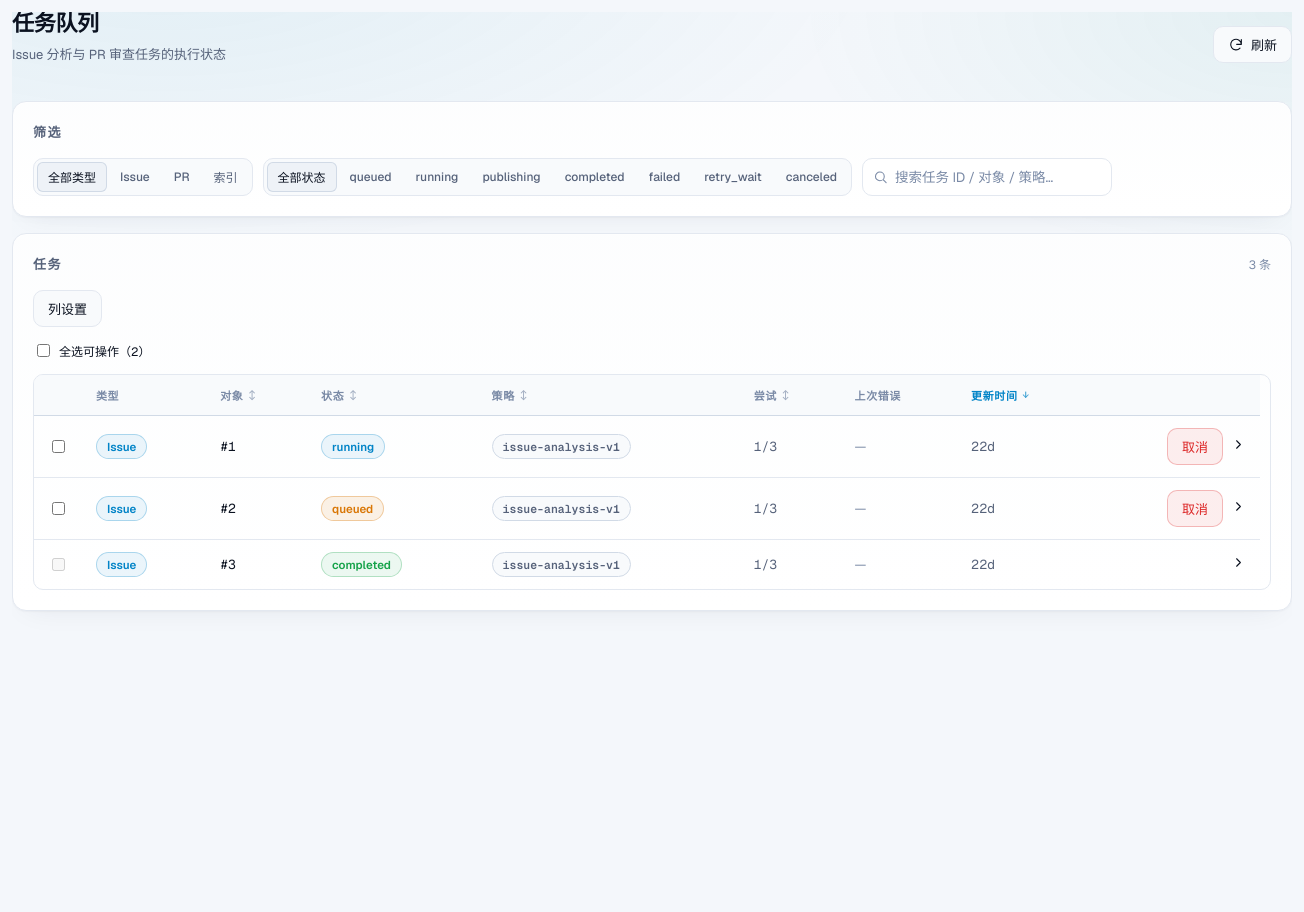
Test: 任务队列页取消按钮 › 勾选运行中任务后可批量「取消（N）」
Expected: the text "#1" is shown, [206, 416, 307, 478]
What coordinates should you click on to do the following:
click the checkbox named "选择任务 task-run"
I would click on:
 (58, 446)
Its box is [52, 440, 65, 453].
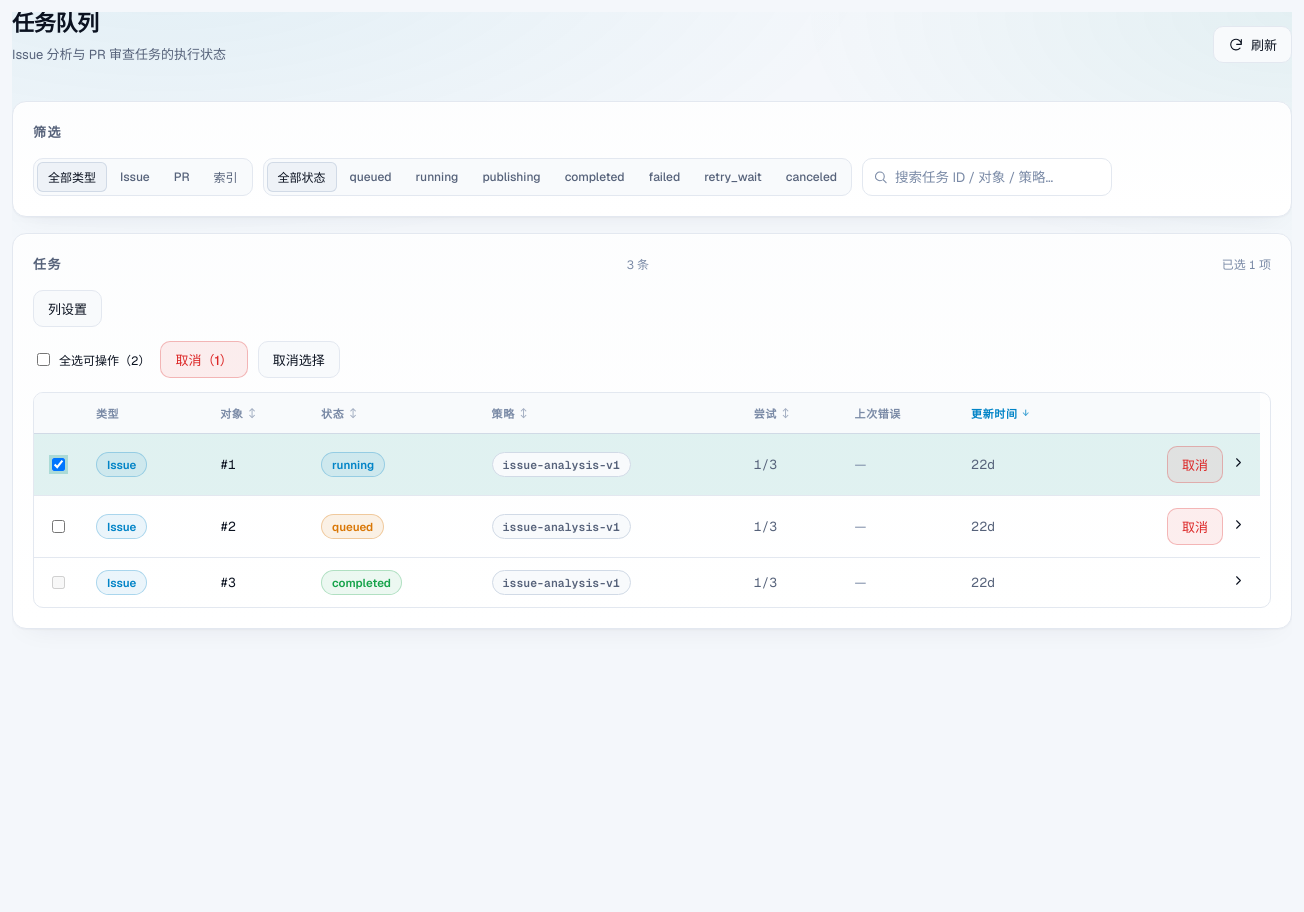
What coordinates should you click on to do the following:
click the button "取消（1）"
I would click on:
 (204, 360)
Its box is [160, 341, 248, 378].
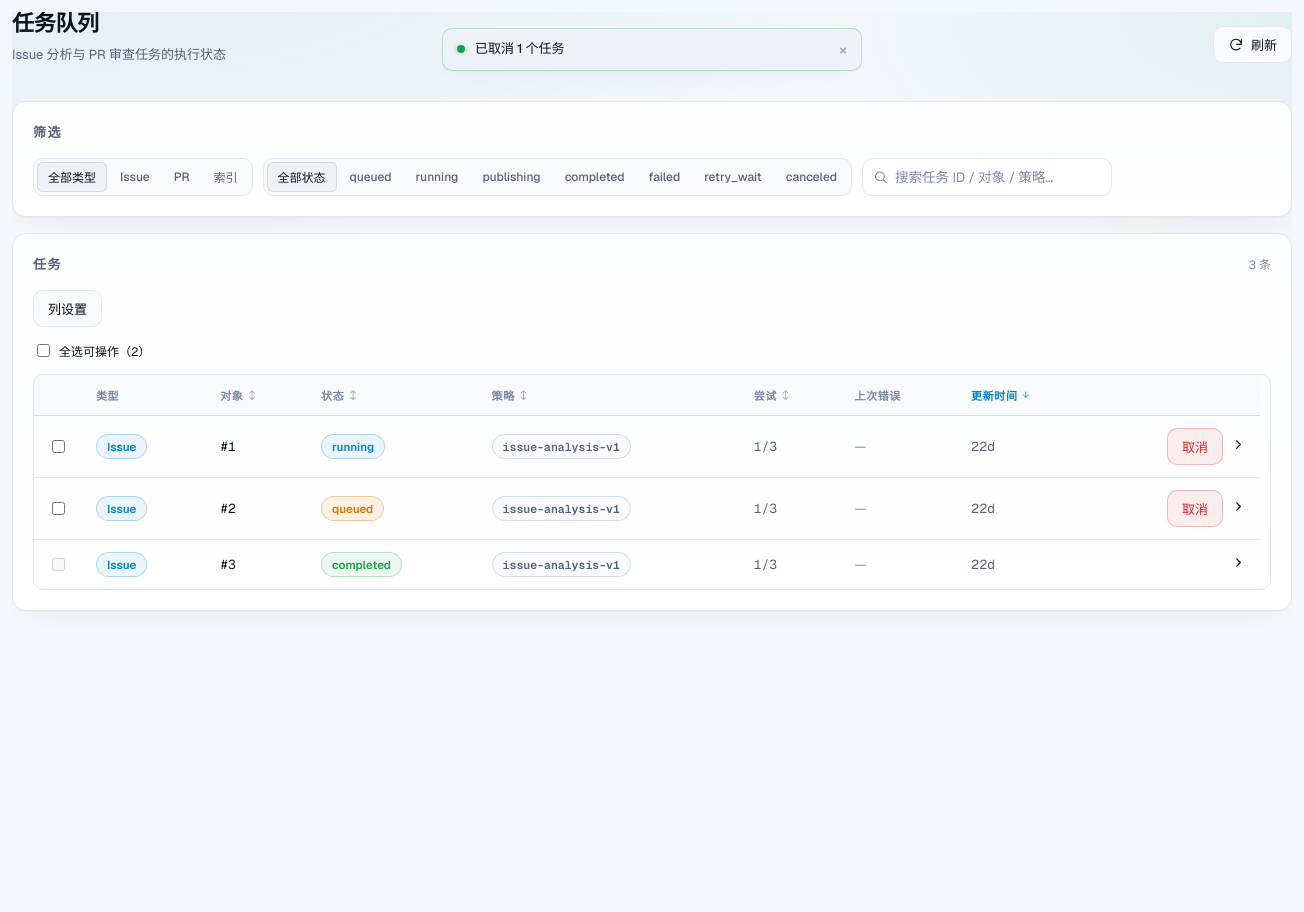
Expected: the text "已取消 1 个任务" is shown, [475, 40, 565, 57]
